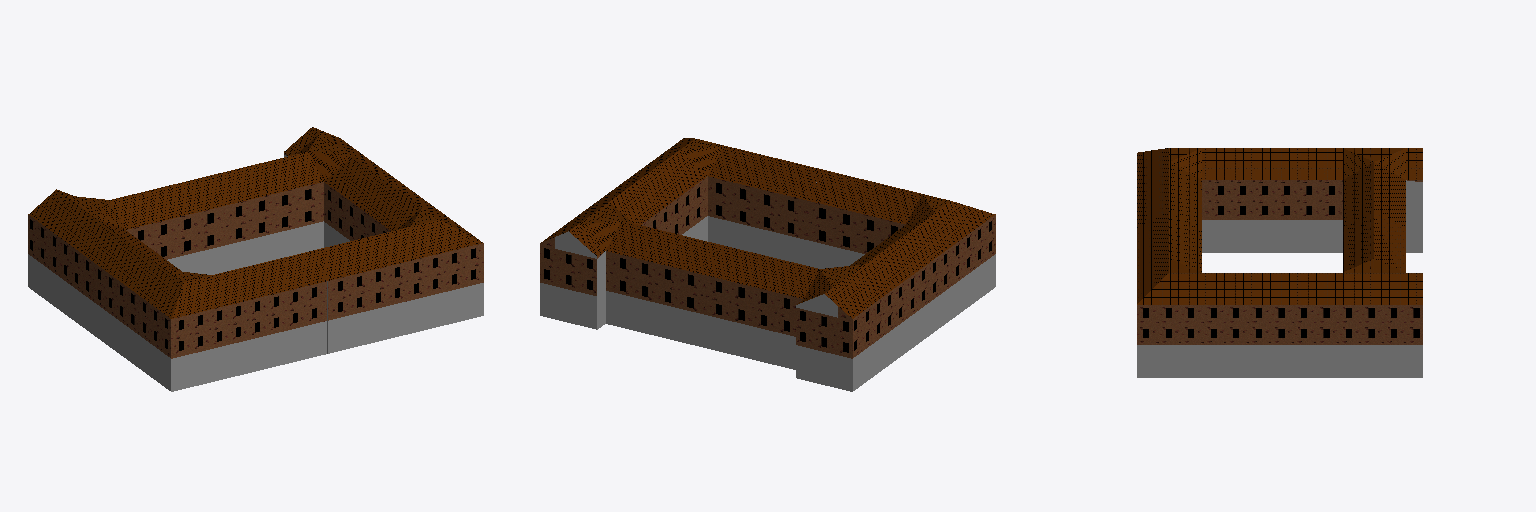
3 views of the same model, side by side, from view 1: azimuth 30°, elevation 25°; view 2: azimuth 150°, elevation 25°; view 3: azimuth 270°, elevation 25° (orthographic).
Parts seen in each view (by area): view 1: Cube, Cube.001_Cube.003; view 2: Cube, Cube.001_Cube.003; view 3: Cube.001_Cube.003, Cube.
Part boxes in pixels (x1,y1,x2,y2): Cube: (28,176,326,391); Cube.001_Cube.003: (209,127,483,353); Cube: (705,170,995,391); Cube.001_Cube.003: (540,138,822,347); Cube.001_Cube.003: (1137,210,1422,377); Cube: (1137,148,1422,252).
Size of the model in its own units: 21.28 by 5.95 by 16.89.
Materials: 4 (2 with a texture image).